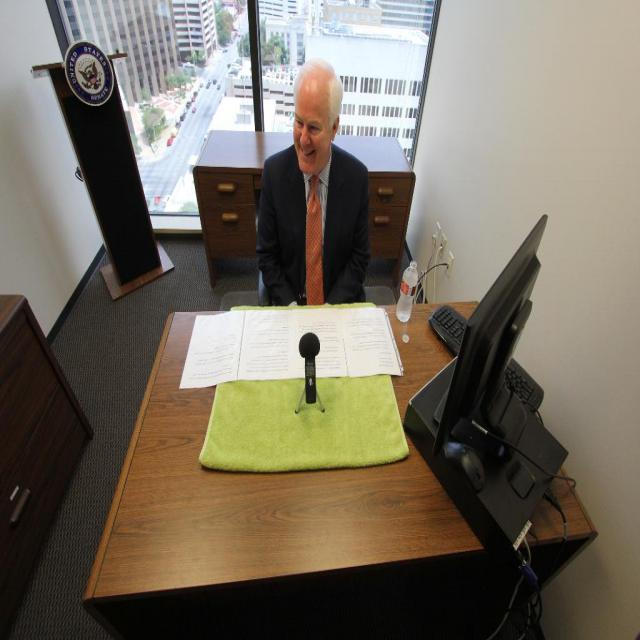desk: (85, 304, 594, 634)
keyboard: (428, 303, 468, 355)
mouse: (445, 441, 486, 492)
person: (254, 56, 372, 306)
tv: (429, 214, 548, 454)
